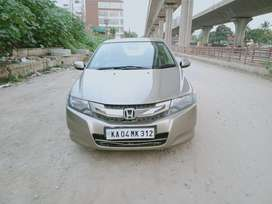KA04MK312: (105, 128, 154, 138)
